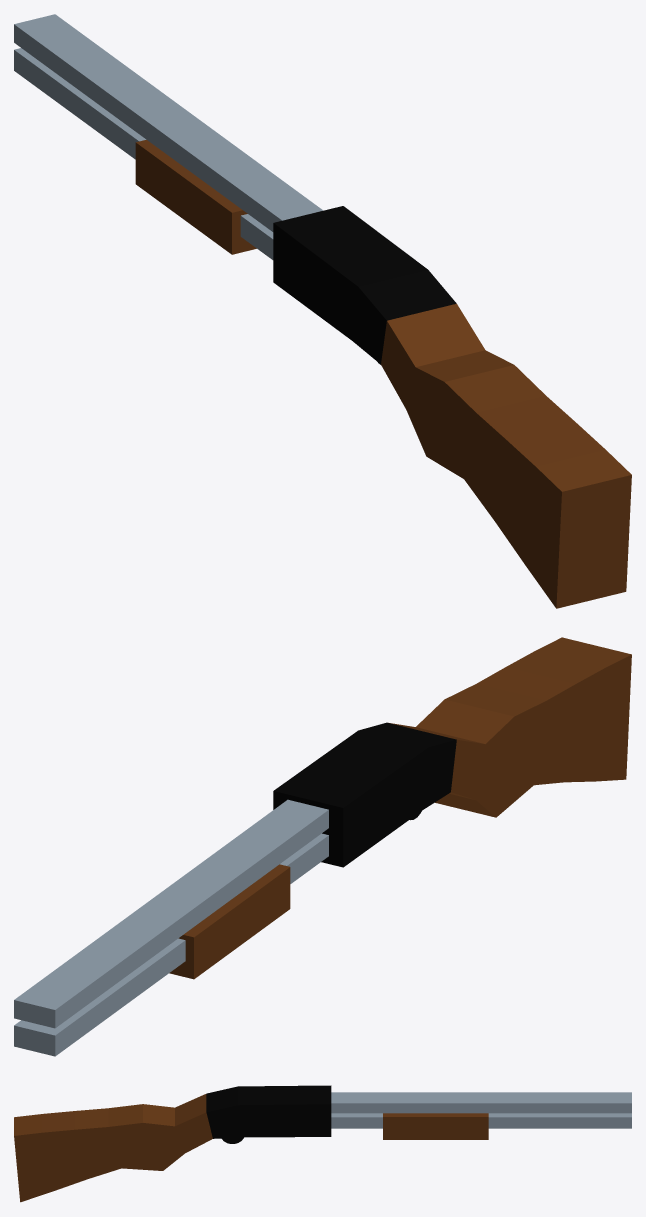
Rendered from Shotgun.fbx.
3 views of the same model, one above another, from view 1: azimuth 30°, elevation 25°; view 2: azimuth 150°, elevation 25°; view 3: azimuth 270°, elevation 25° (orthographic). The views are drawn at different scales.
Parts seen in each view (by area): view 1: Cube.003; view 2: Cube.003; view 3: Cube.003.
Boxes of the visible parts, x1,y1,x2,y2 form: Cube.003: (14,14,631,608); Cube.003: (14,637,631,1056); Cube.003: (14,1085,631,1202).
Size of the model in its own units: 105 by 256 by 1460.
